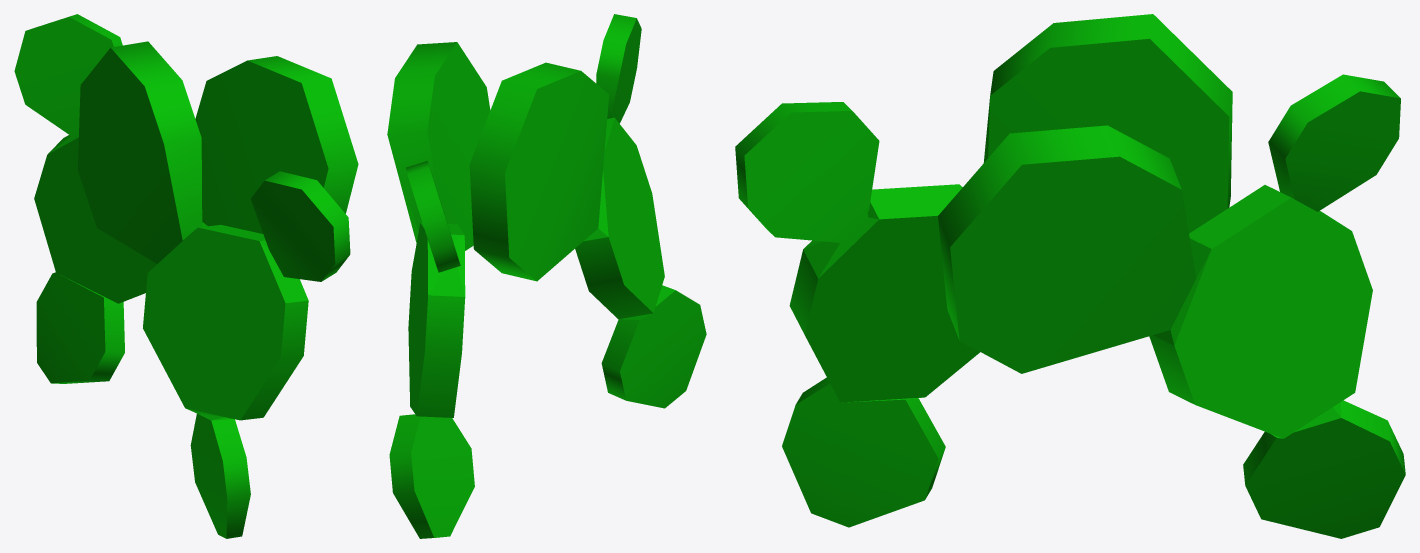
File: Cactus_Obstacle_2.fbx
3 views of the same model, side by side, from view 1: azimuth 30°, elevation 25°; view 2: azimuth 150°, elevation 25°; view 3: azimuth 270°, elevation 25° (orthographic). The views are drawn at different scales.
Visible parts, largest first — view 1: Cactus_Obstacle_2; view 2: Cactus_Obstacle_2; view 3: Cactus_Obstacle_2.
Boxes of the visible parts, x1,y1,x2,y2 form: Cactus_Obstacle_2: (14,14,358,538); Cactus_Obstacle_2: (387,14,706,538); Cactus_Obstacle_2: (735,14,1405,538).
Bounding box in the file's own units: 6.62 × 12.83 × 15.25.
